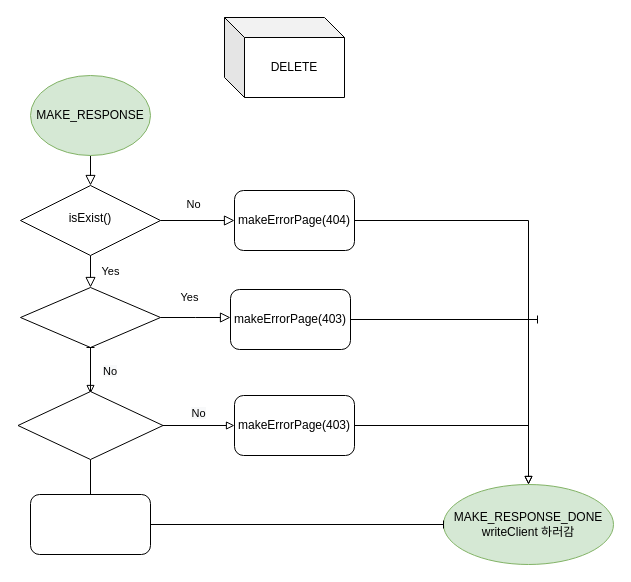
The diagram is 631 pixels wide and 582 high, and some of its shapes have lost their labels. Each missing label, with the centre of its shape:
isDirectory(): the point at 90,317
makeHeader(): the point at 90,524
unlink(resource_path): the point at 90,425
